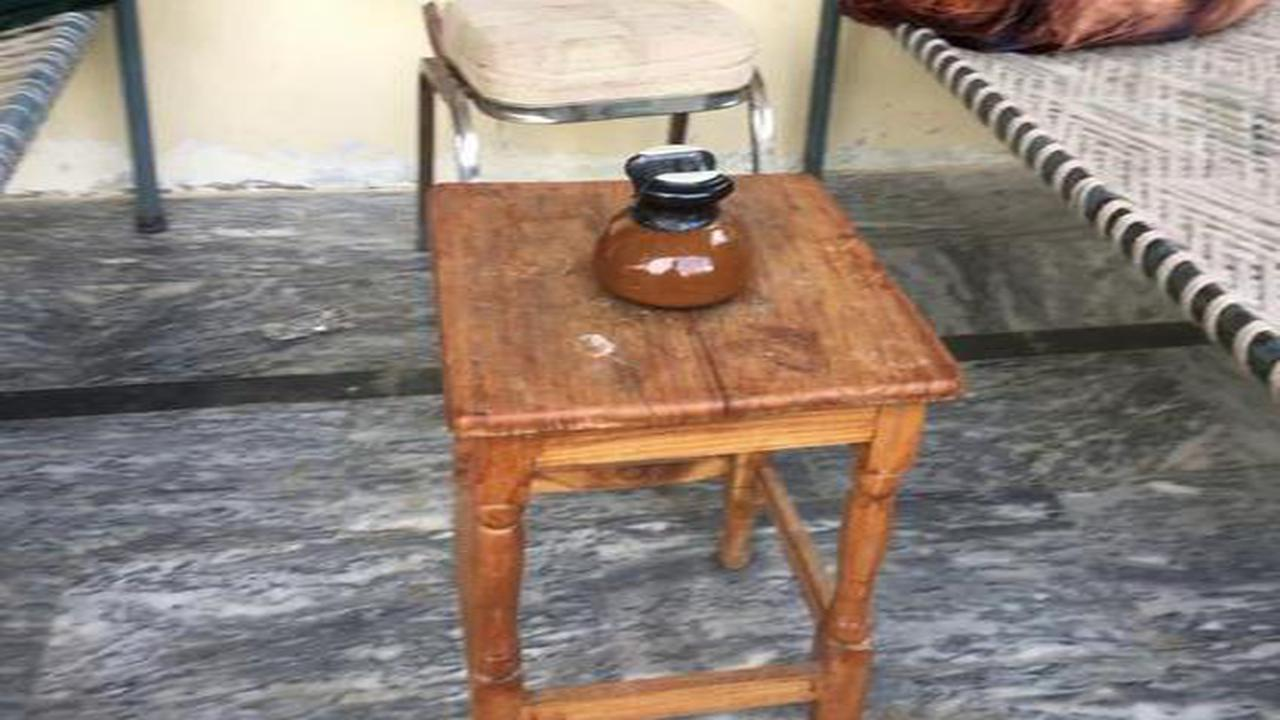insulator_pin: (570, 129, 779, 322)
